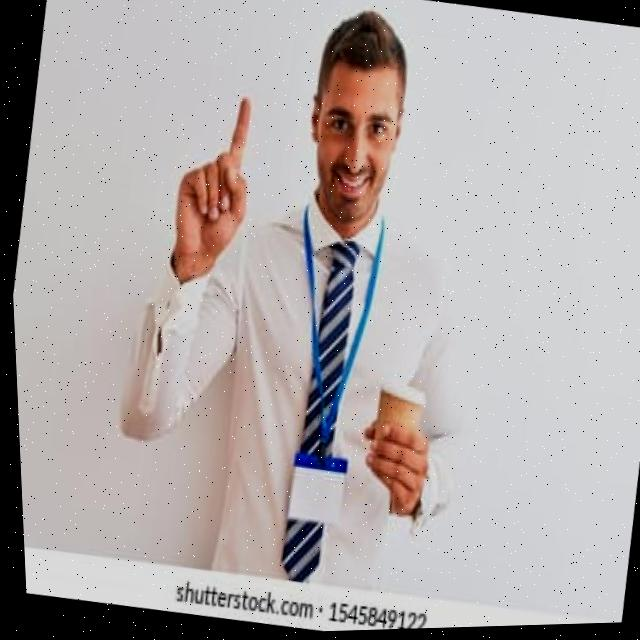id_card: (246, 211, 402, 535)
